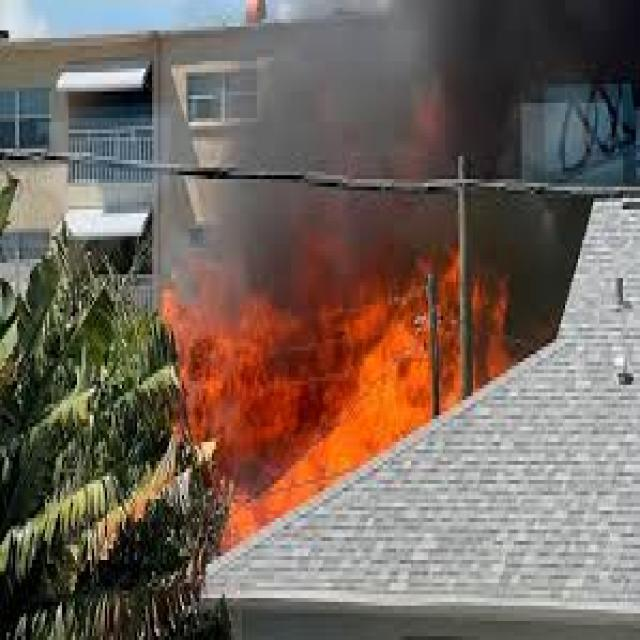Fire: (312, 251, 474, 422), (187, 300, 316, 502)
Smoke: (263, 22, 600, 286)
